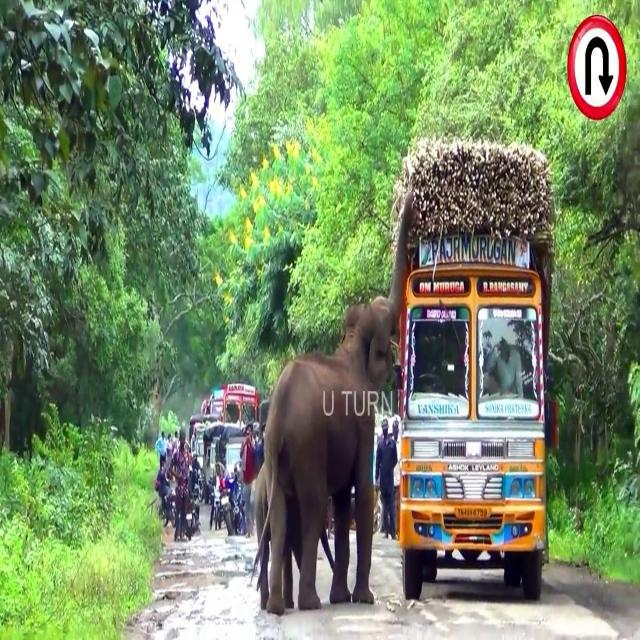Elephant: (253, 190, 415, 617)
